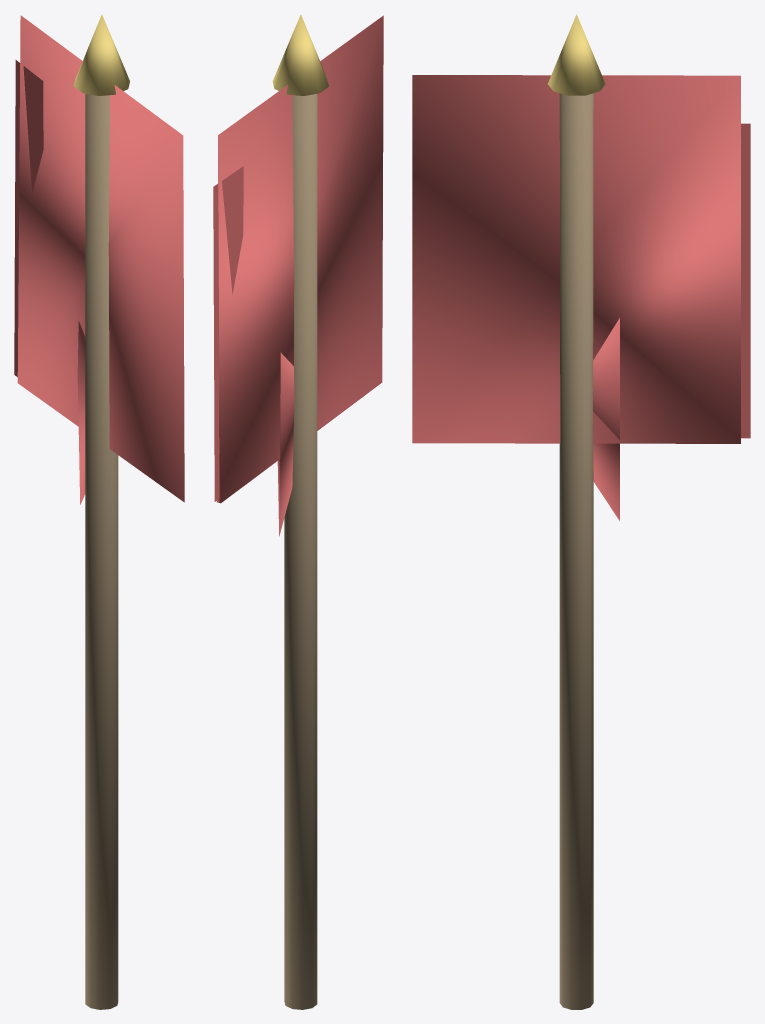
Rendered from fort_flag.glb.
3 views of the same model, side by side, from view 1: azimuth 30°, elevation 25°; view 2: azimuth 150°, elevation 25°; view 3: azimuth 270°, elevation 25° (orthographic).
Parts seen in each view (by area): view 1: fort_flag; view 2: fort_flag; view 3: fort_flag.
Boxes of the visible parts, x1,y1,x2,y2 form: fort_flag: (14, 14, 184, 1009); fort_flag: (213, 14, 383, 1009); fort_flag: (412, 14, 750, 1009).
Size of the model in its own units: 0.1141 by 2.26 by 0.7.
